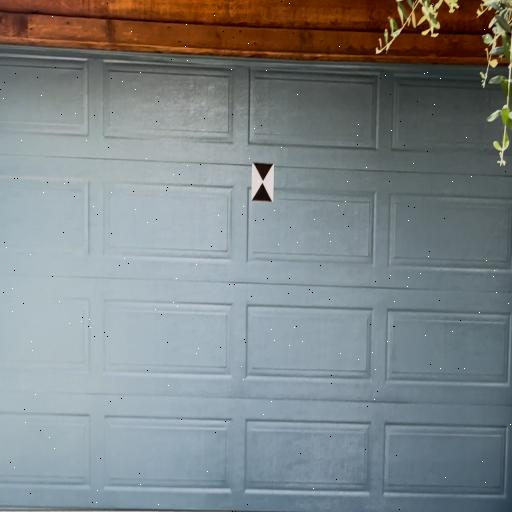target: (252, 162, 274, 202)
